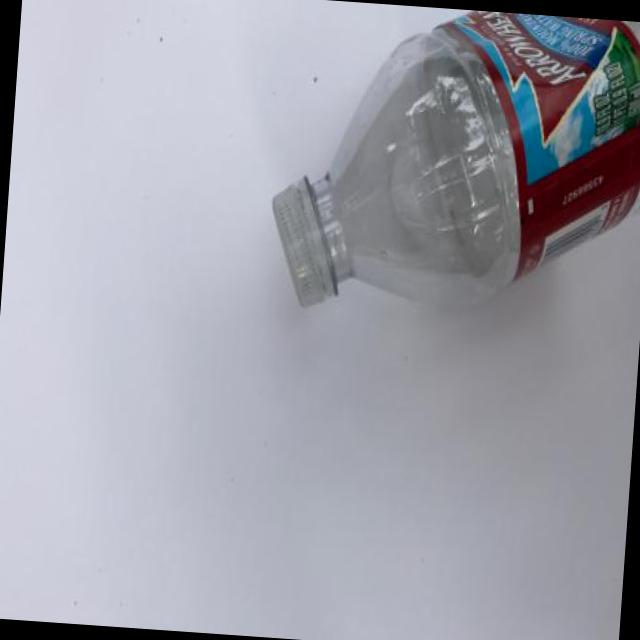Recycle: (260, 0, 640, 333)
